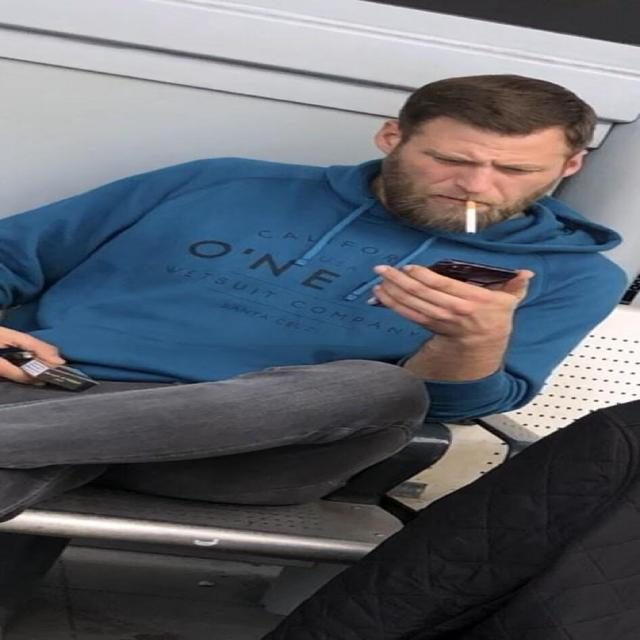Сигарета: (462, 198, 480, 235)
Тело: (3, 75, 625, 517)
